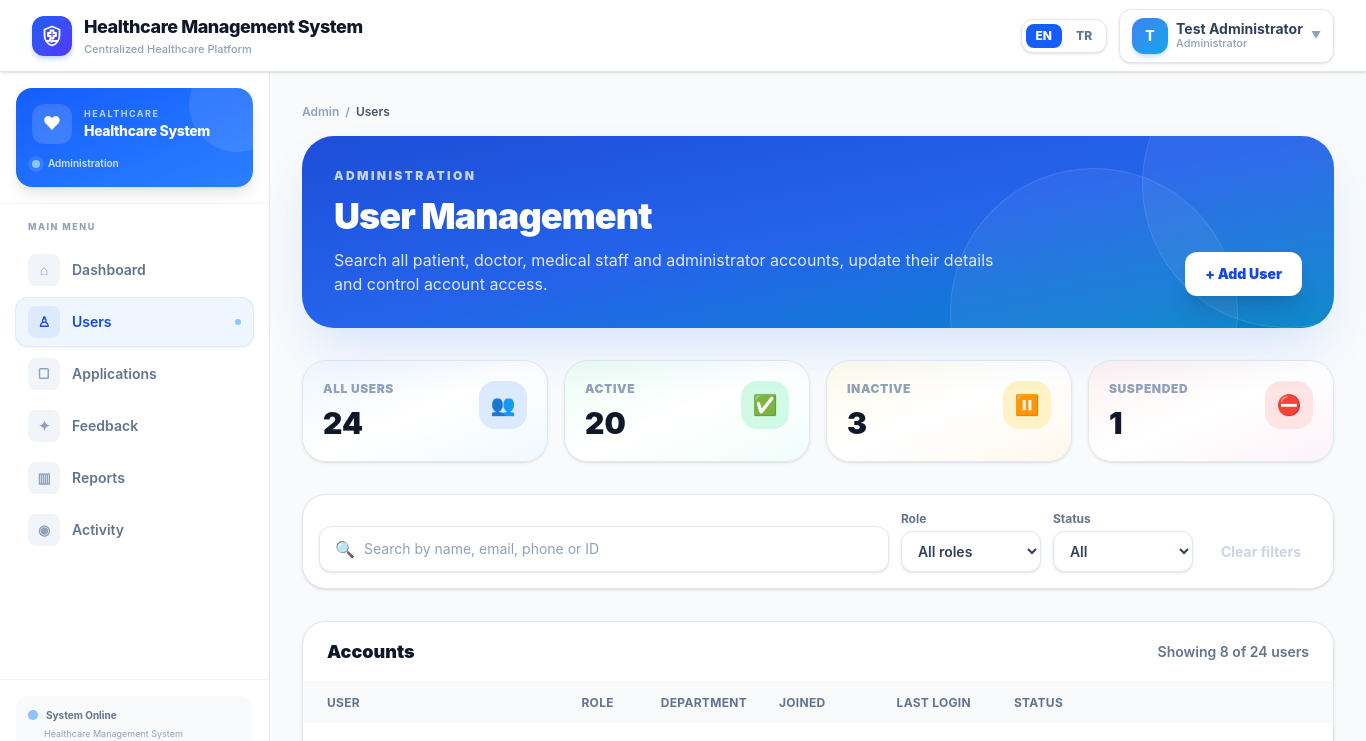
Scenario: W112 user management › searches, filters and paginates users
Type "doctor" into the search field at [604, 549], box [319,526,889,572]
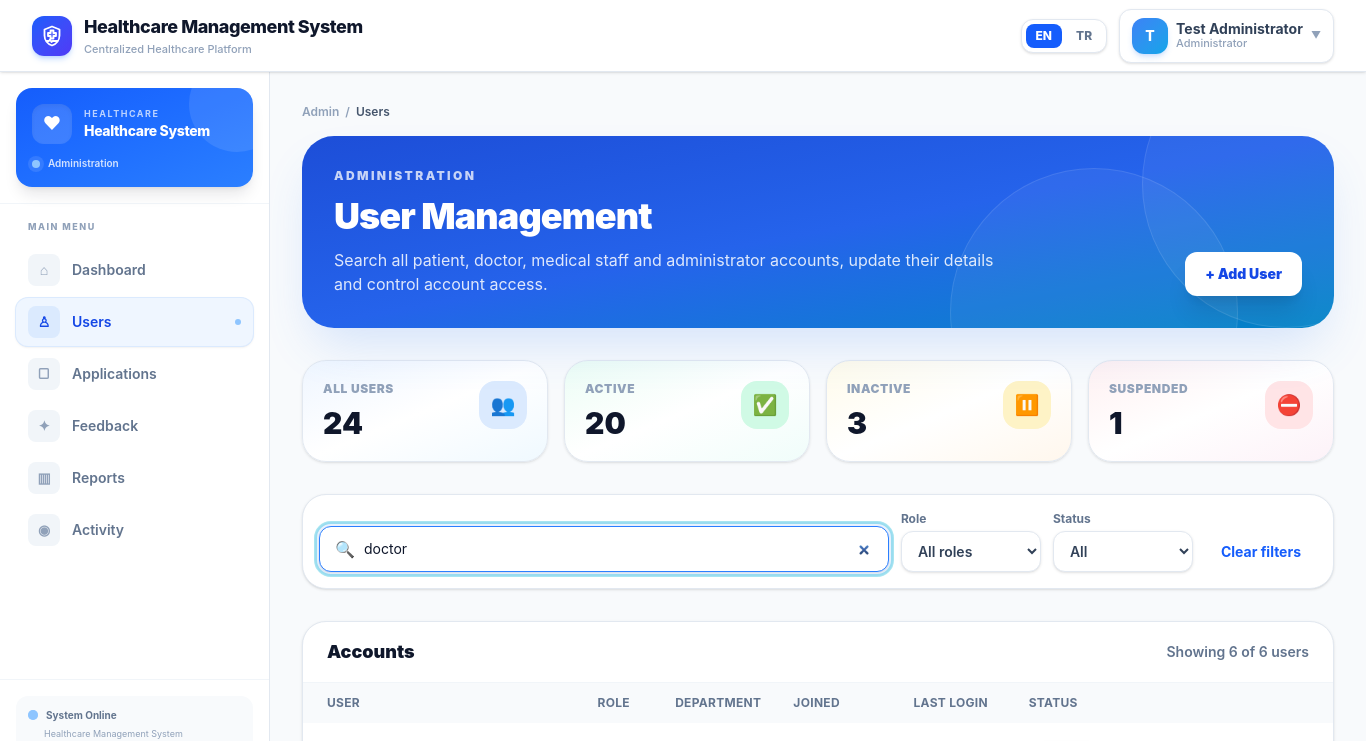
Clear the search field at [604, 549], box [319,526,889,572]
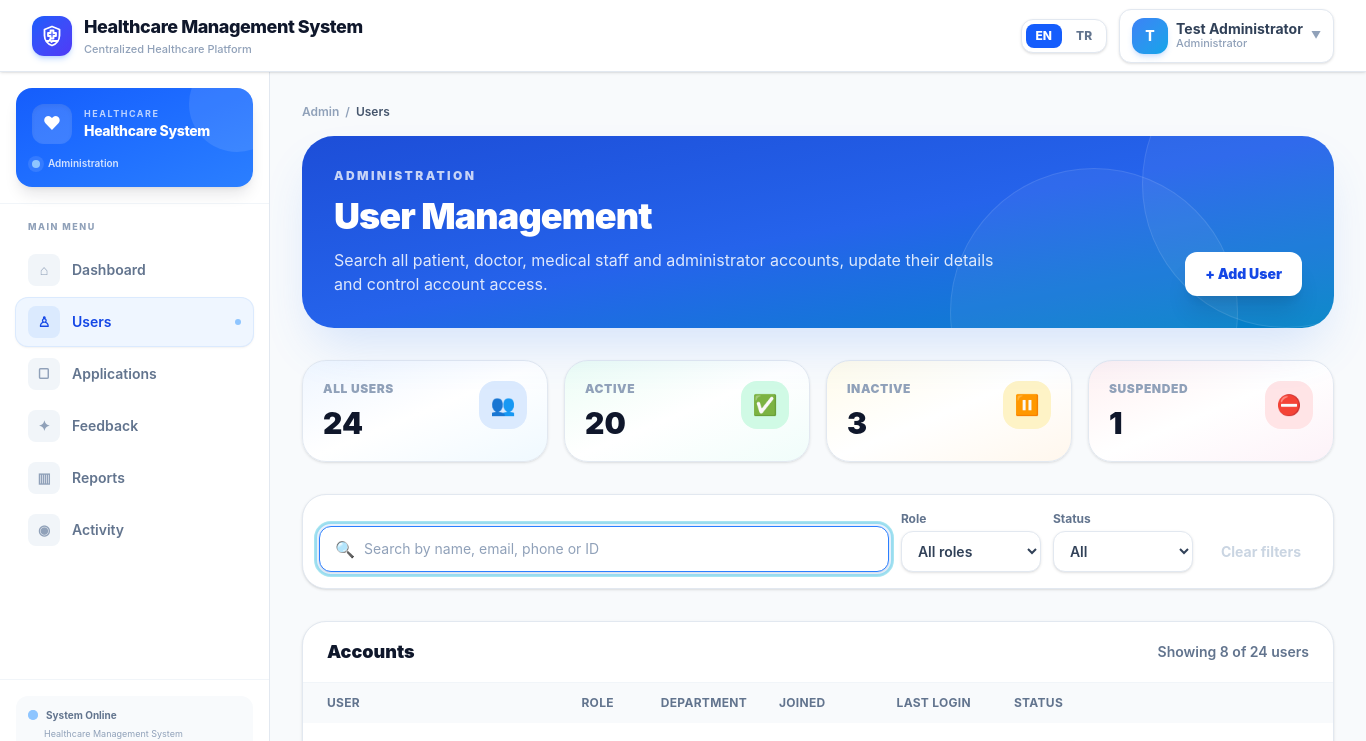
Select "Inactive" in the dropdown labelled "Status" at [1123, 552], box [1053,531,1193,572]
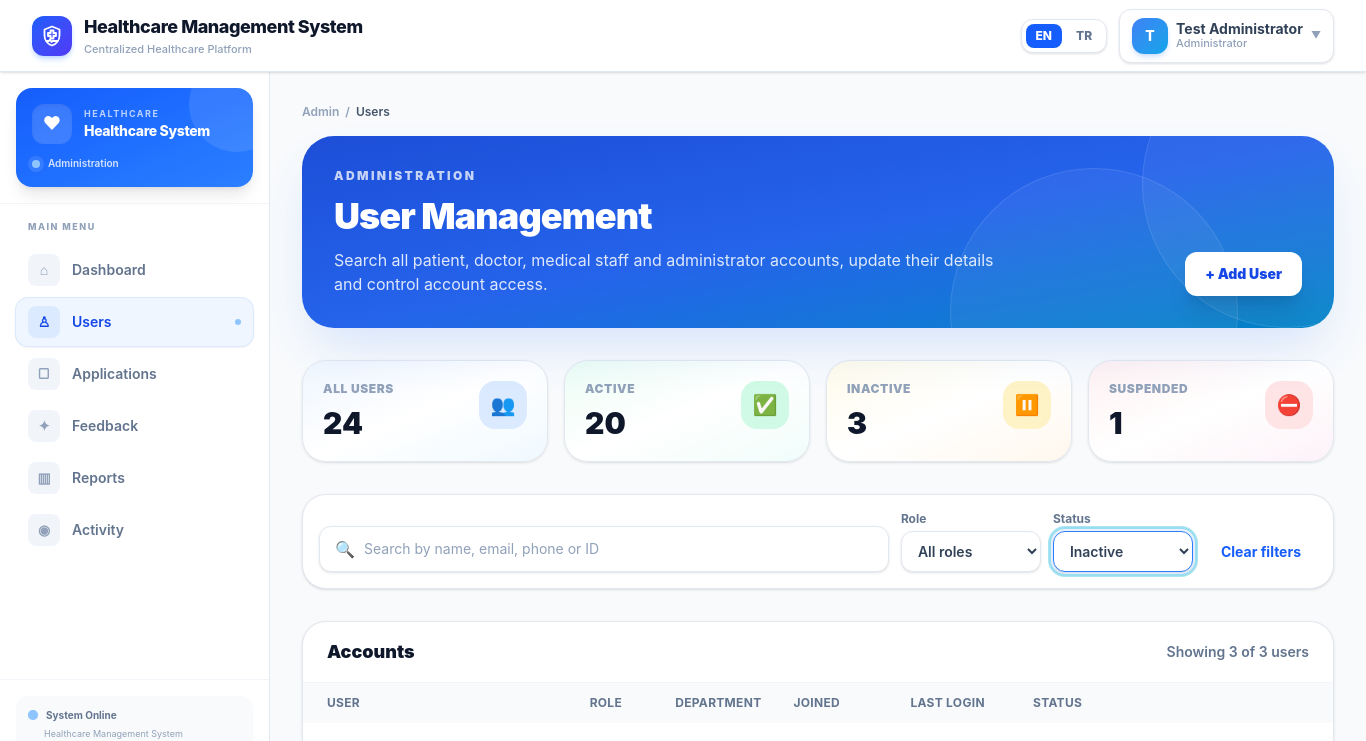
Type "no-such-user" into the search field at [604, 549], box [319,526,889,572]
(page scrolled)
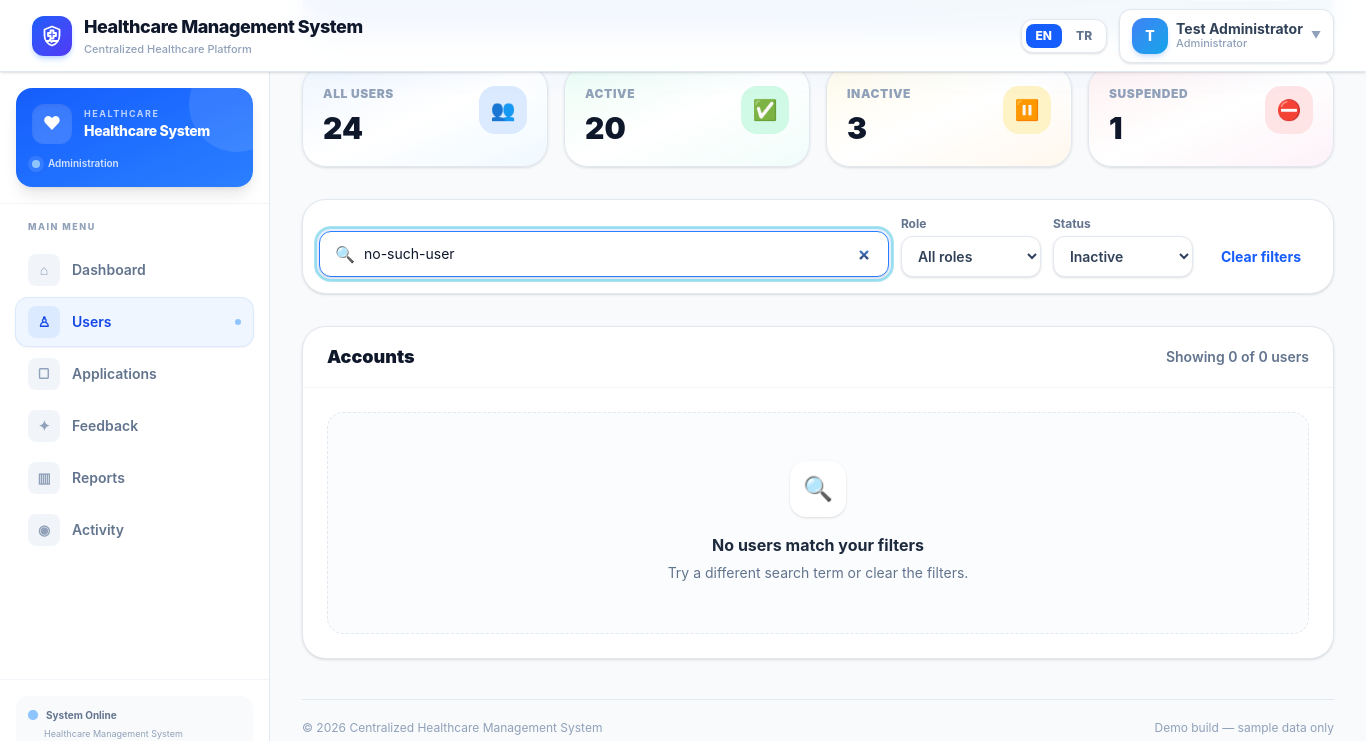
Now the heading "No users match your filters" is shown, box [712,533,924,557]
